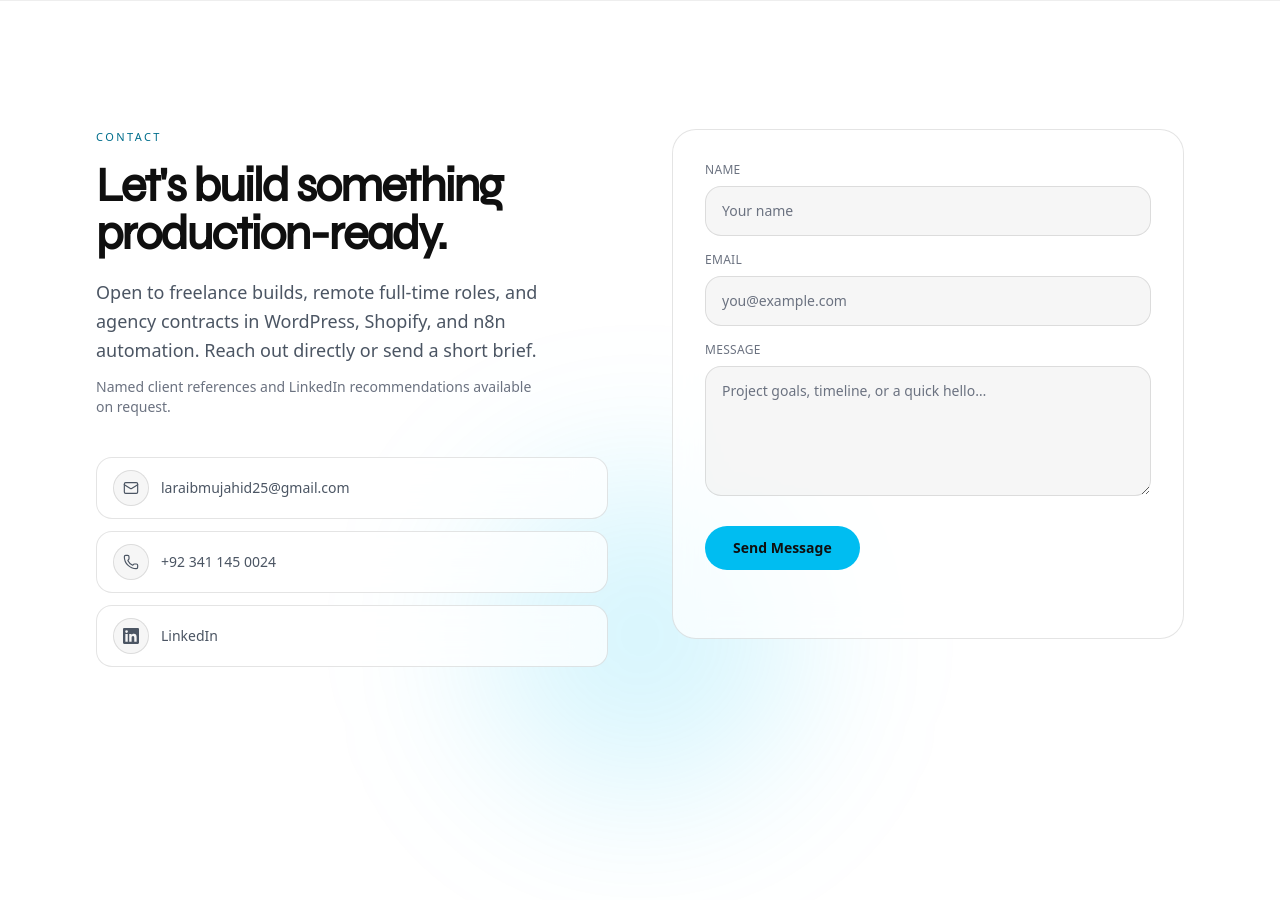
Test: Contact form › rejects a malformed email before hitting the network
Type "Laraib Mujahid" into the field labelled "Name" at coordinates (928, 211), box top-left (705, 186), bottom-right (1151, 236)
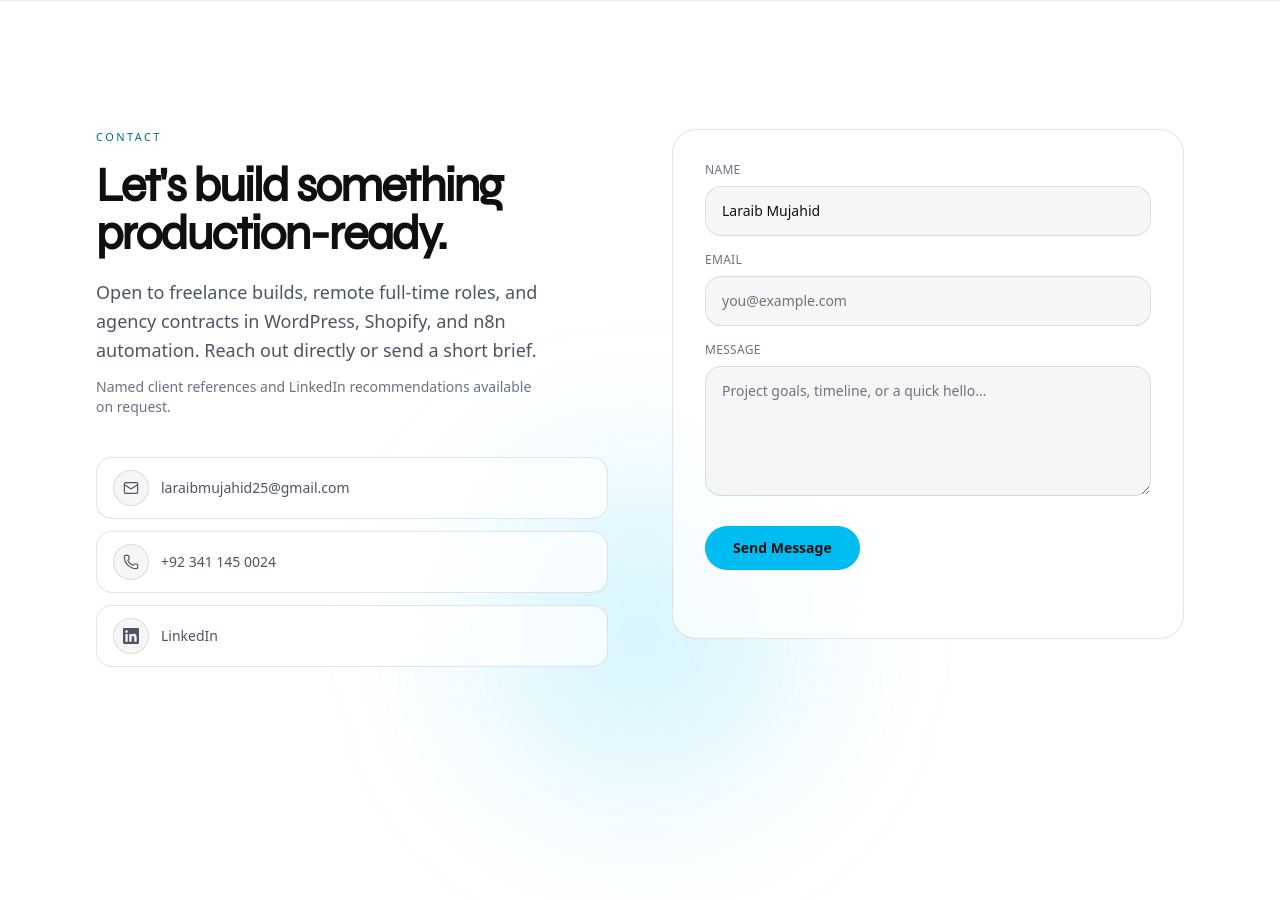
Type "not-an-email" into the field labelled "Email" at coordinates (928, 301), box top-left (705, 276), bottom-right (1151, 326)
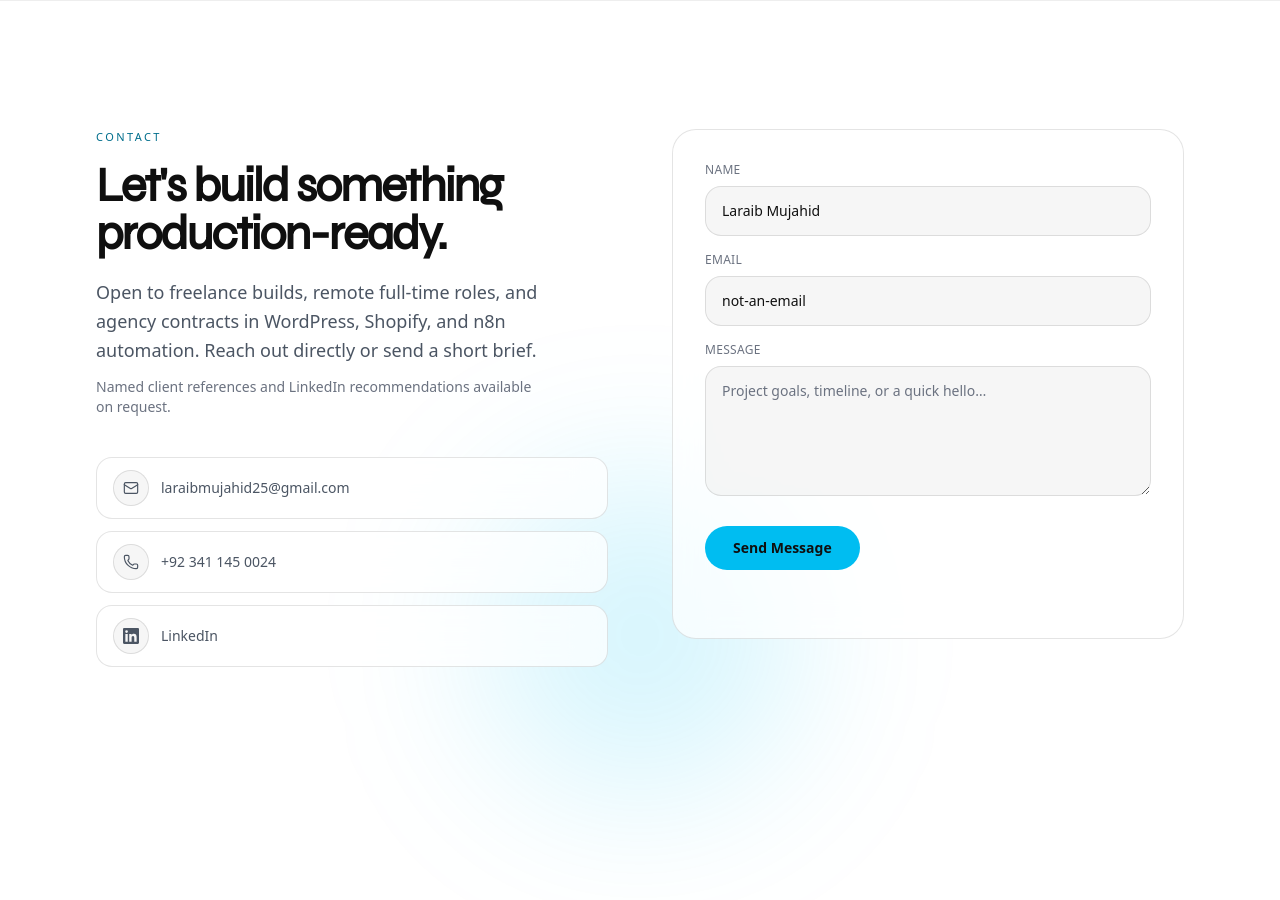
Type "I need a Shopify store customised for launch." into the text box labelled "Message" at coordinates (928, 431), box top-left (705, 366), bottom-right (1151, 496)
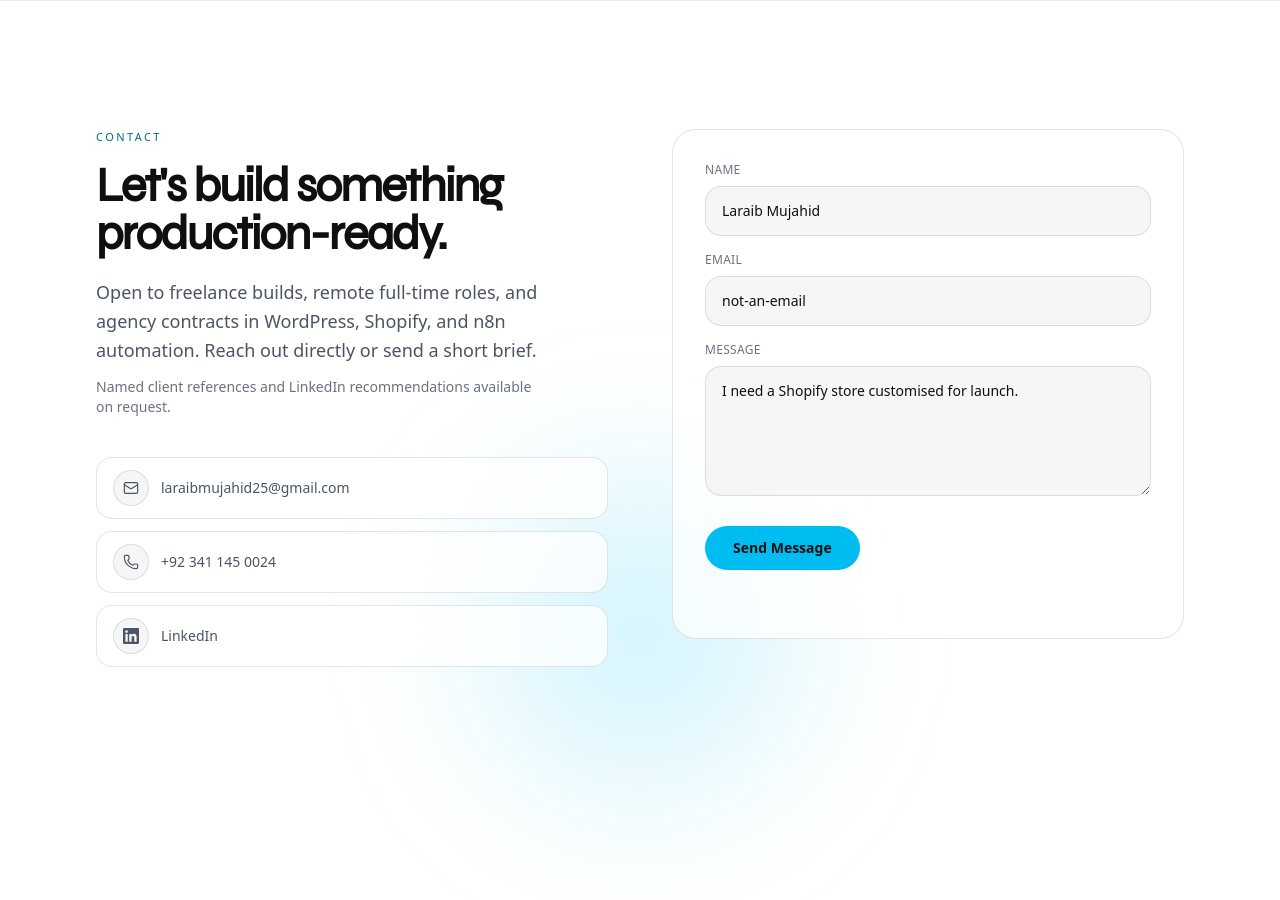
Click the button "Send Message" at coordinates (782, 548), box top-left (705, 526), bottom-right (860, 570)
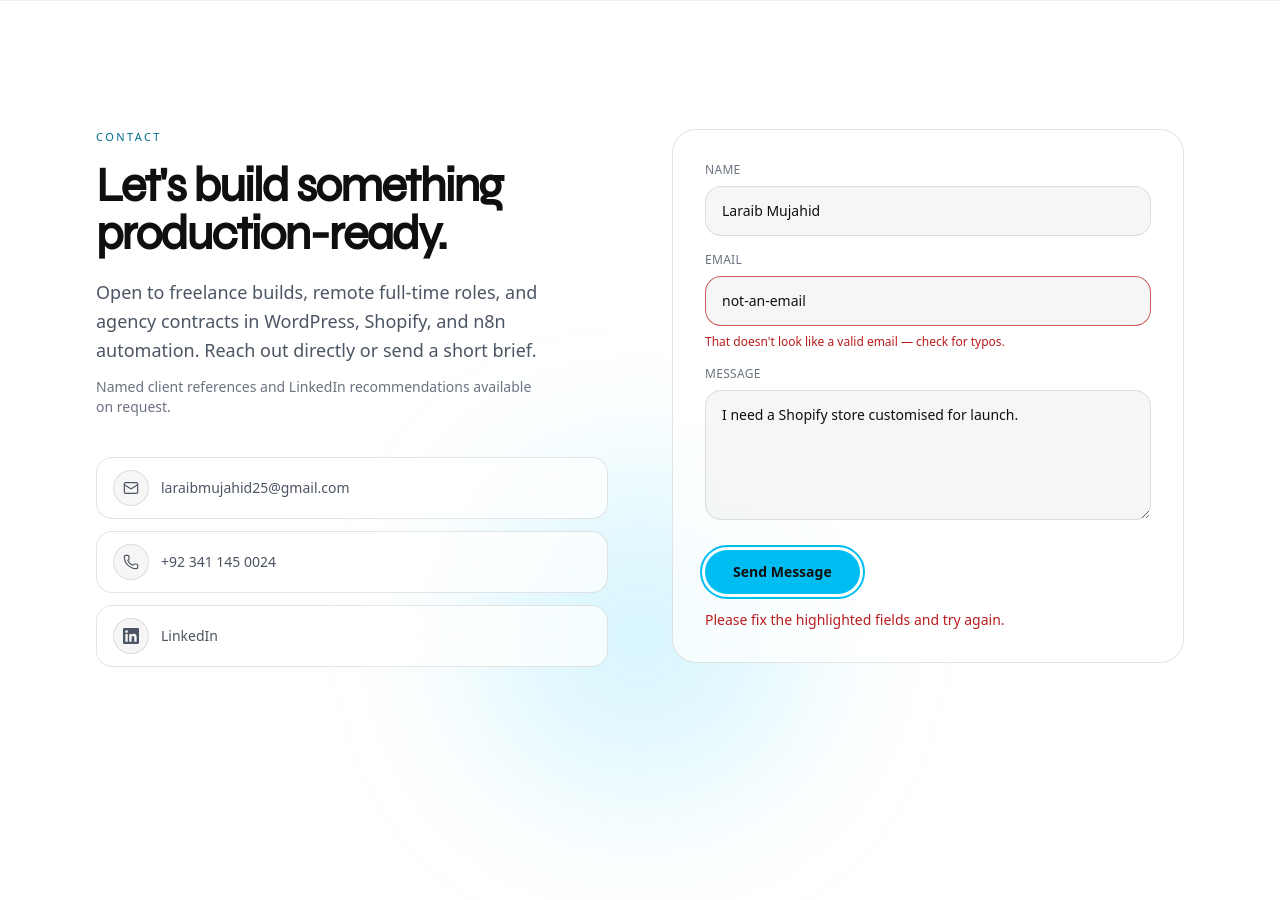
Expected: the text "That doesn't look like a valid email — check for typos." is shown, top-left (705, 333), bottom-right (1005, 350)
